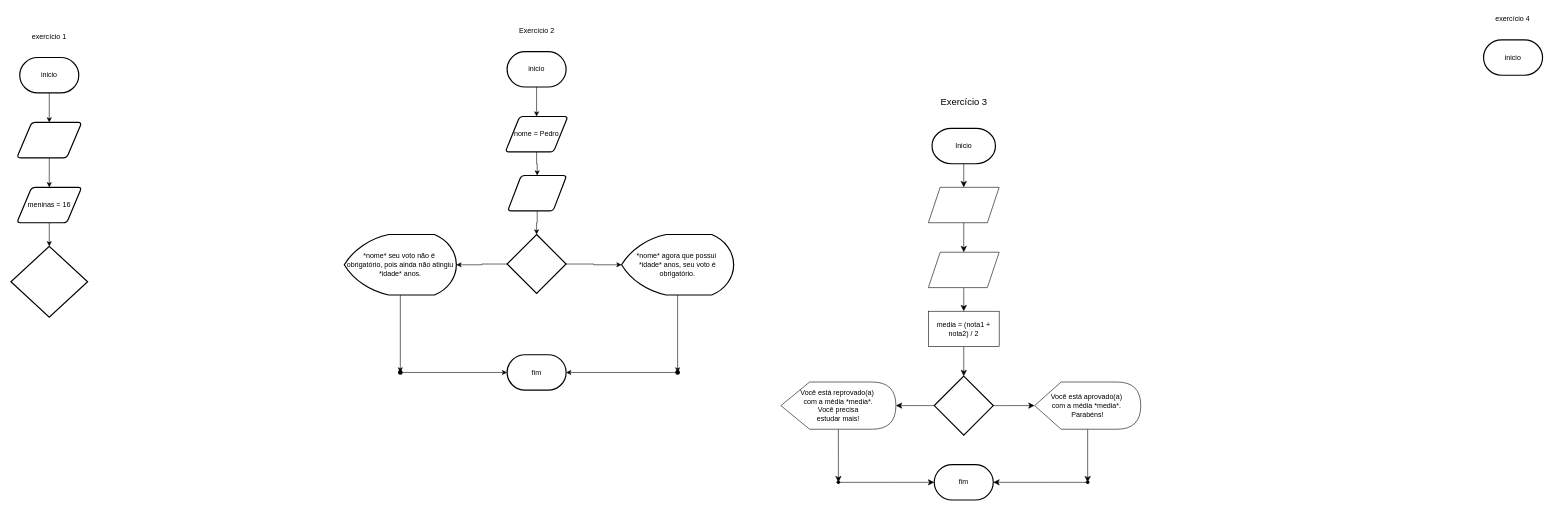
Image size: 1553x510. Some labels were removed from this diagram. The centre of each missing label's shape, as x and y in pixels:
"idade = 18" goes at [537,193].
"idade >= 18" goes at [536,264].
"media >= 7,0" goes at [963,405].
"meninos < meninas" goes at [49,281].
"meninos = 14" goes at [49,140].
"nota1 = 7,0" goes at [963,205].
"nota2 = 5,0" goes at [963,270].
